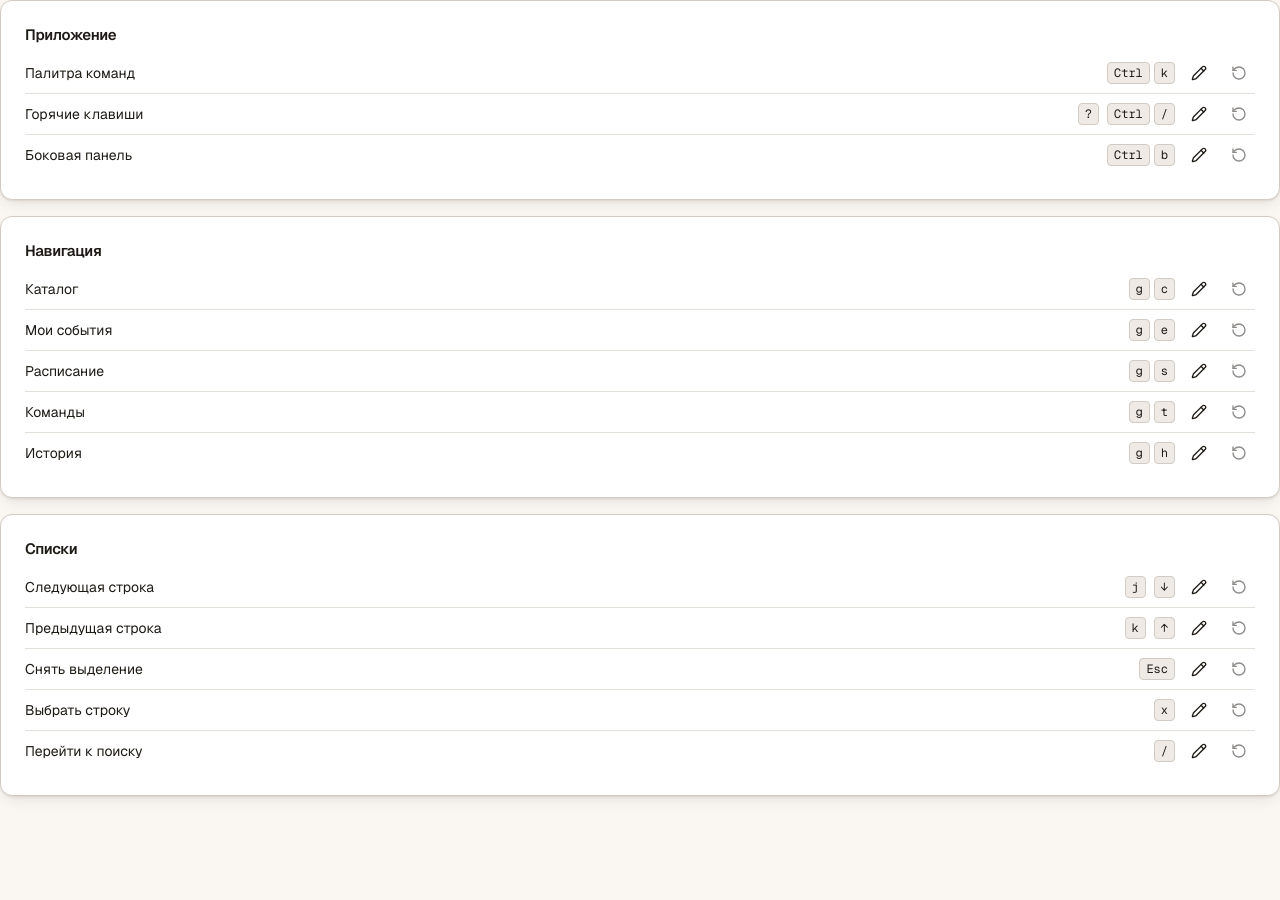
what the screen shows while a combination is being recorded › accepts a single letter as a whole shortcut and offers to save it
Click the button named "Изменить «Палитра команд»".
click(1199, 73)  # box [1183,57,1215,89]
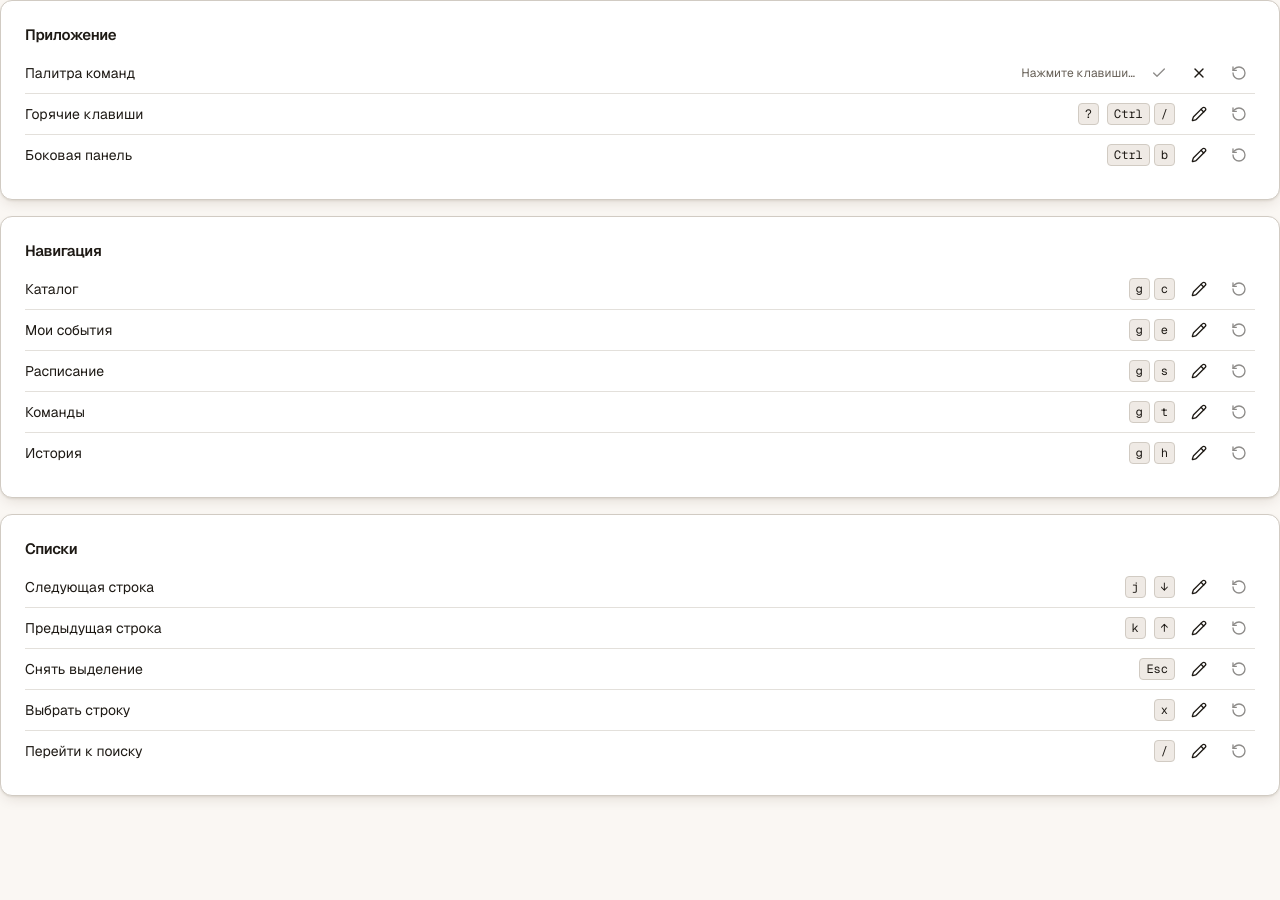
Type keys "m"
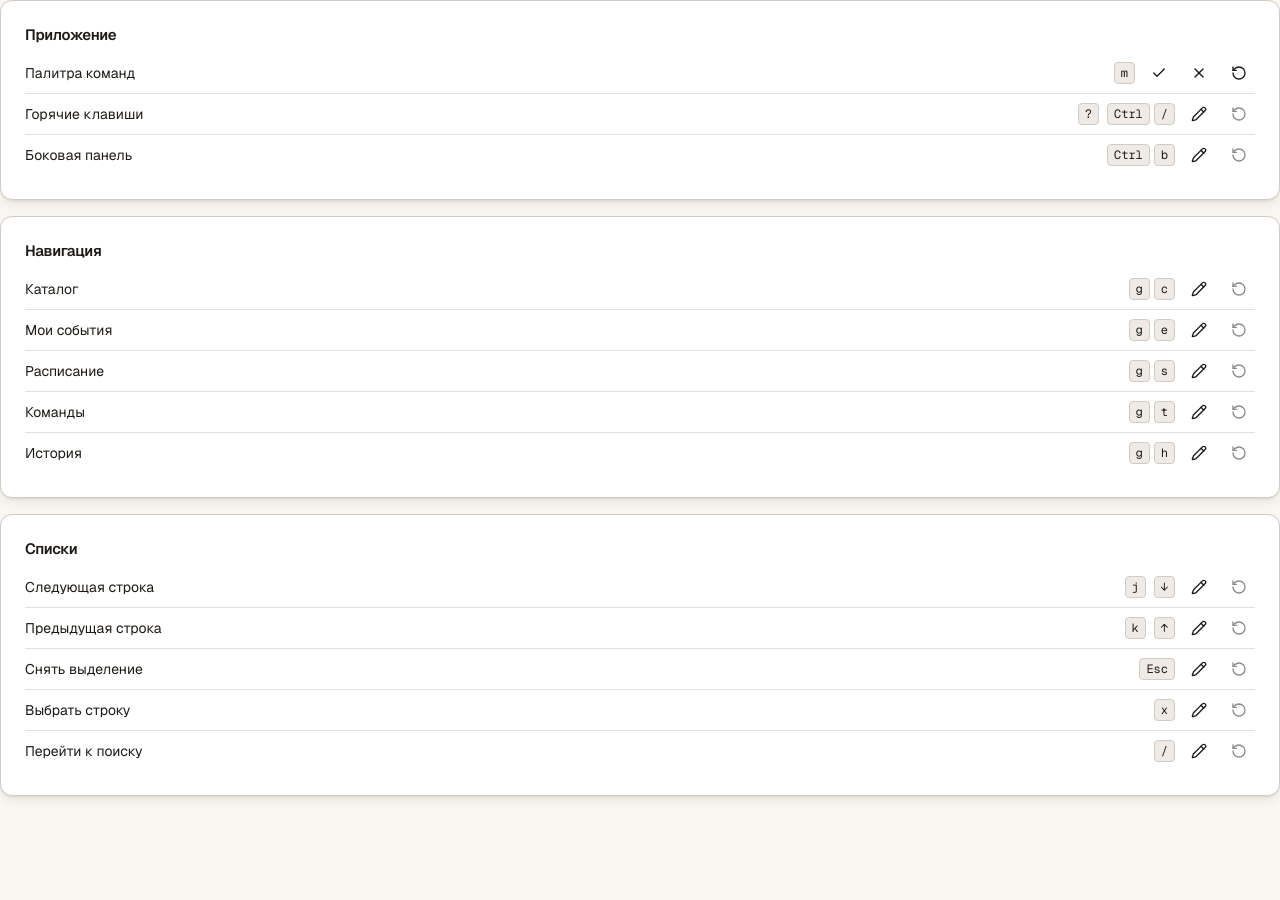
Result: the element showing "m" is shown at [1114,62,1135,84]
Result: the button named "Сохранить «Палитра команд»" is enabled at [1143,57,1175,89]
